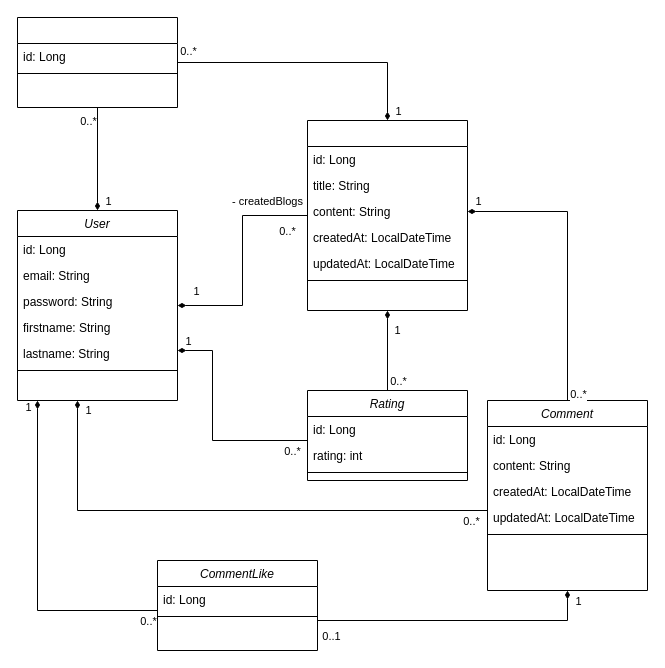
Some shapes in this 665 by 668 pixel diagram are drawn without their labels. The shapes that lost their labels are listed below. From the top down, each one's box as (x1, y1, x2, y2) in pixels, then its label:
(16, 16, 178, 108): Like
(306, 120, 468, 310): Blog
